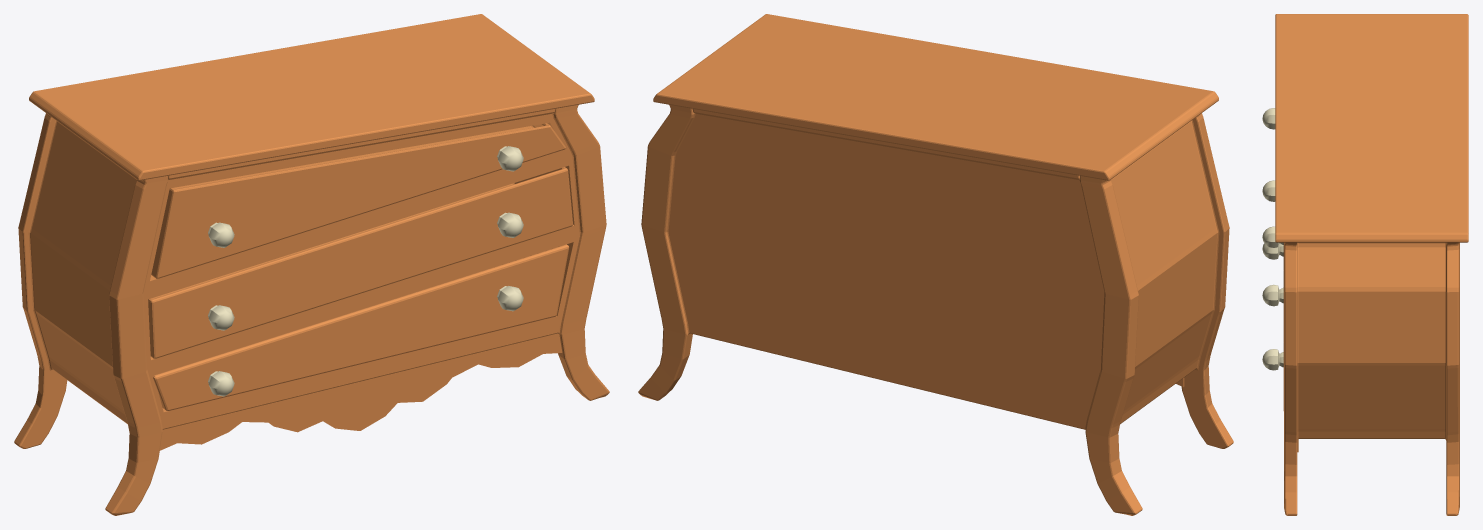
Rendered from commode.fbx.
The picture shows the model from 3 angles, left to right: view 1: azimuth 30°, elevation 25°; view 2: azimuth 150°, elevation 25°; view 3: azimuth 270°, elevation 25°; orthographic projection. The views are drawn at different scales.
Visible parts, largest first — view 1: commode, commode.002, rebord-vague, Sphere.003; view 2: commode; view 3: commode, Sphere.003.
Boxes of the visible parts, x1,y1,x2,y2 form: commode: (14,14,609,515); commode.002: (148,123,572,410); rebord-vague: (160,333,562,450); Sphere.003: (208,146,523,396); commode: (638,14,1233,515); commode: (1275,14,1468,515); Sphere.003: (1262,108,1283,370).
Size of the model in its own units: 132 by 86.84 by 53.76.
